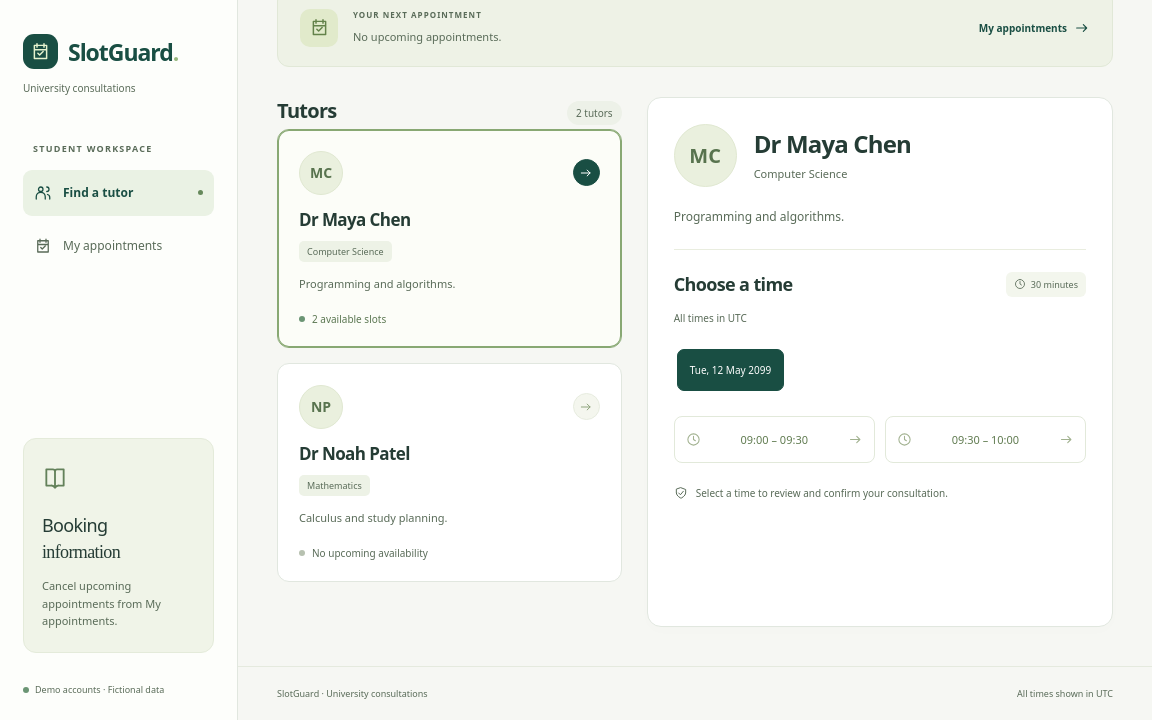
Test: Student booking and cancellation › displays tutor availability, local timezone, and a helpful empty state
(page scrolled)
Expected: the navigation bar named "Main navigation" is shown, x1=23 y1=170 x2=214 y2=268
Expected: the text "2 available slots" is shown, x1=299 y1=312 x2=386 y2=326
Click the button with aria-label "View Dr Noah Patel availability": point(321, 407) x1=277 y1=363 x2=622 y2=582
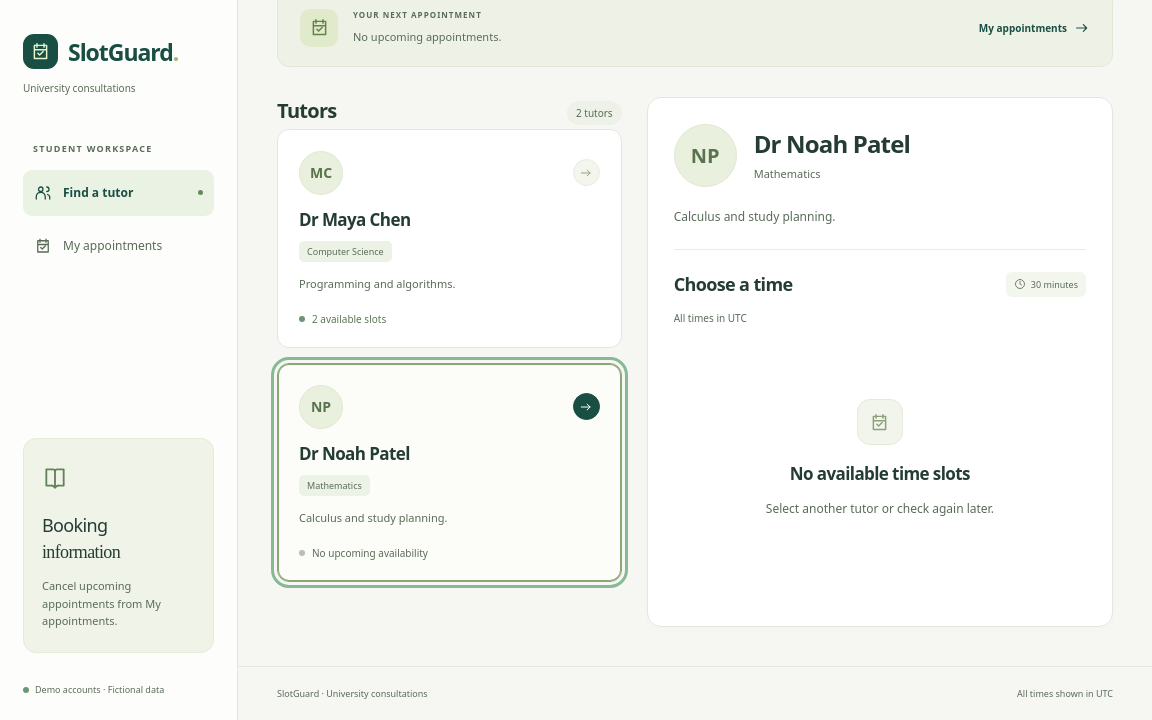
Result: the heading "No available time slots" is shown at x1=790 y1=462 x2=970 y2=485
